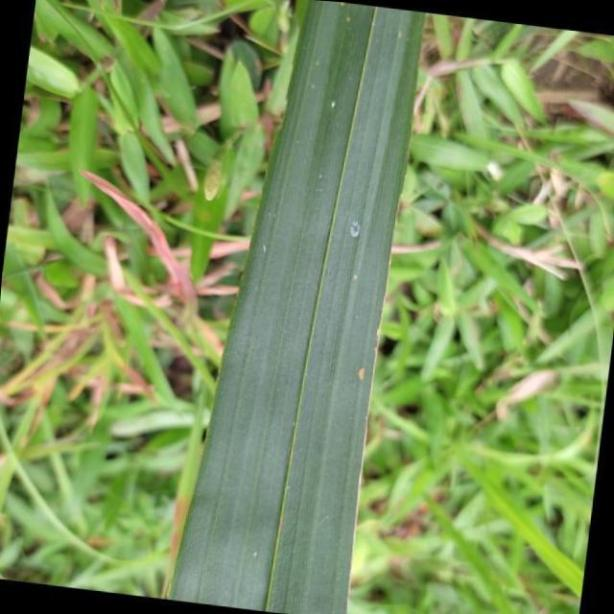Boron: (168, 0, 424, 614)
